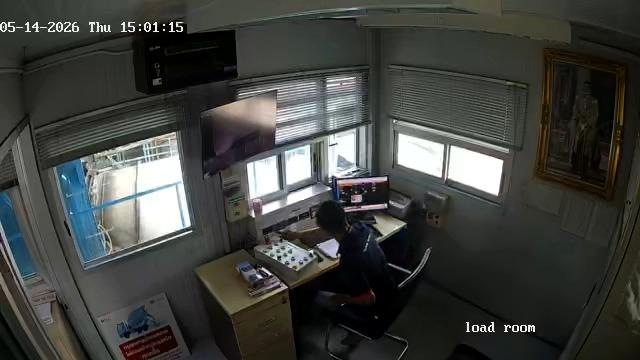Head: (318, 194, 359, 231)
People: (309, 196, 399, 317)
